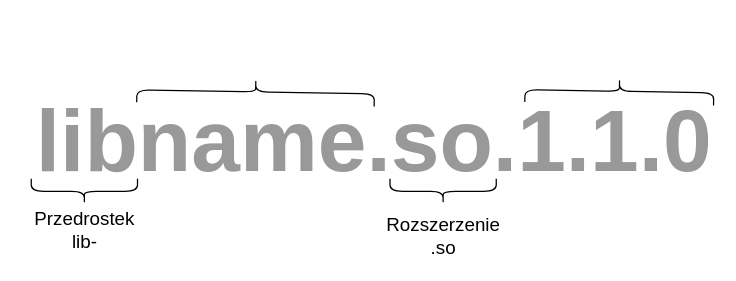
The diagram is 736 pixels wide and 281 high, and some of its shapes have lost their labels. Each missing label, with the centre of its shape:
Nazwa biblioteki: (254,91)
Wersja biblioteki: (619,90)
